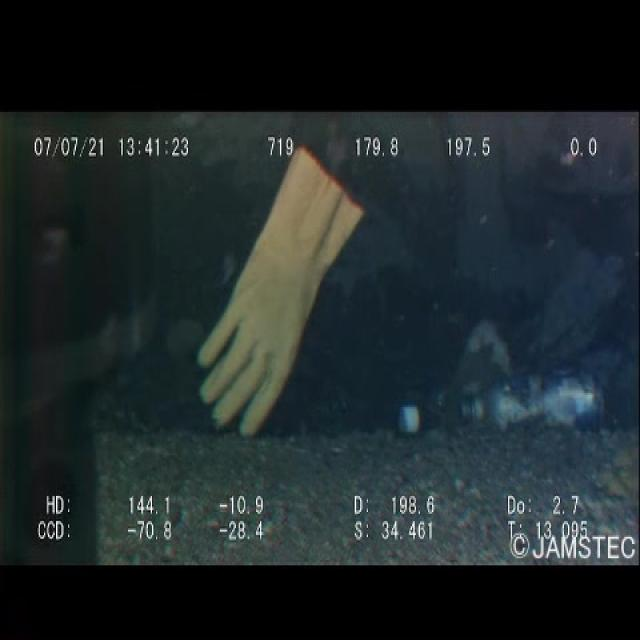plastic: (388, 370, 464, 448)
